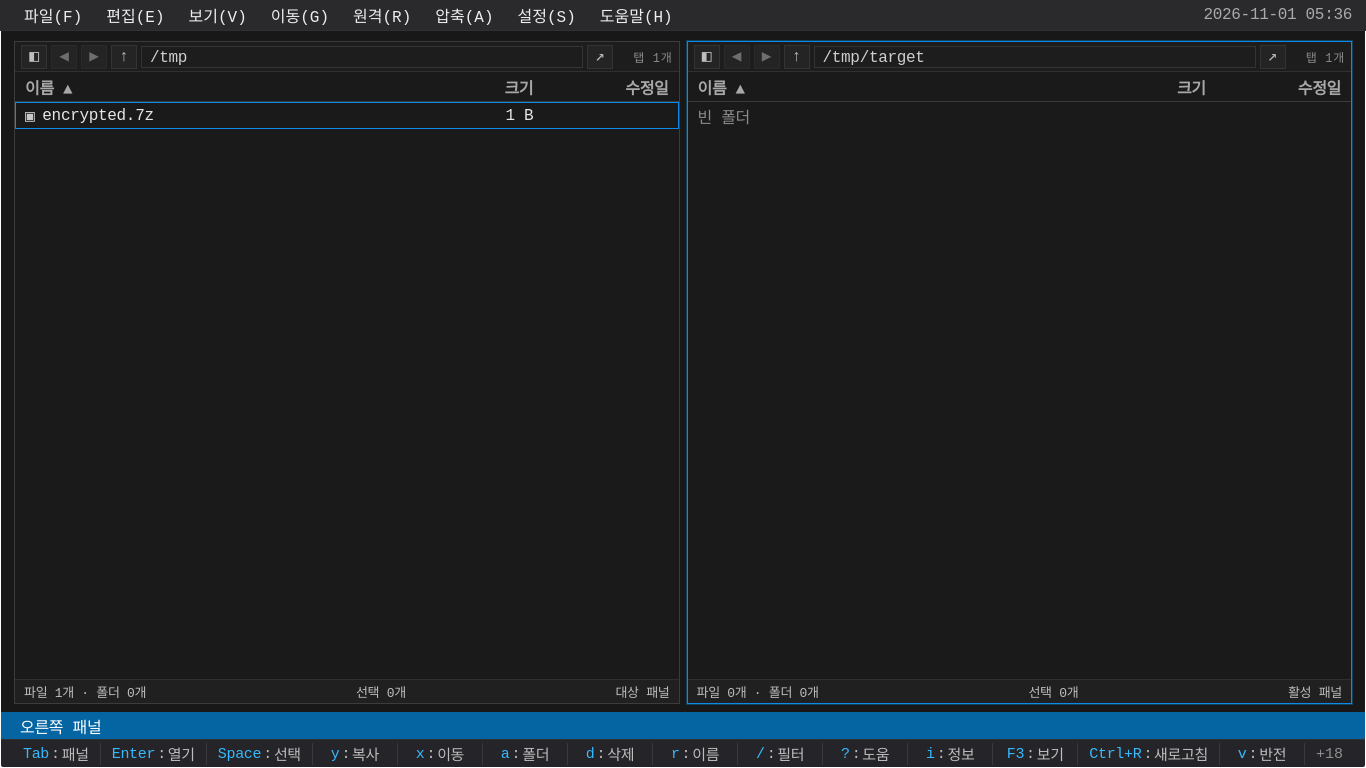
Scenario: CommanderShell archives › requests a masked password and retries encrypted archive listing without exposing the secret
Press Tab
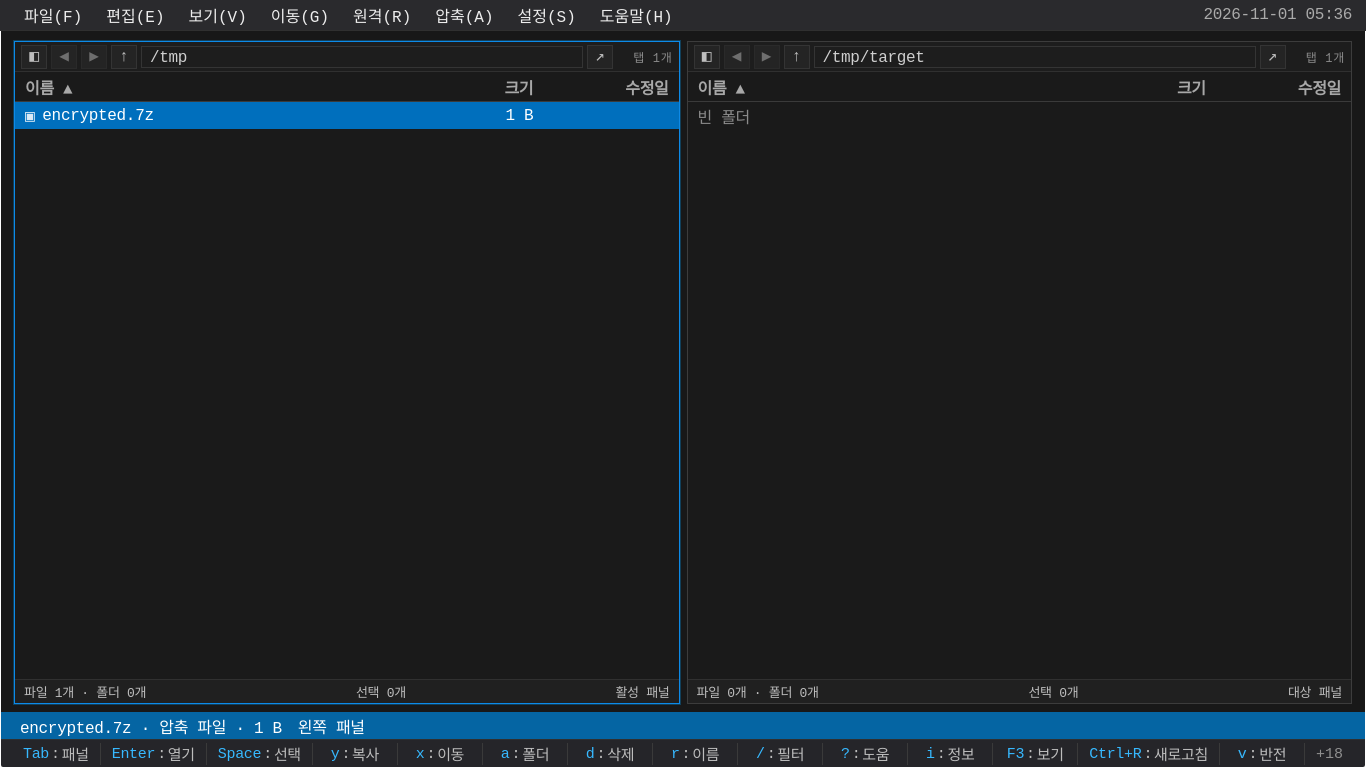
Double-click the row with class "file-row" at (347, 116), box [15,102,678,129]
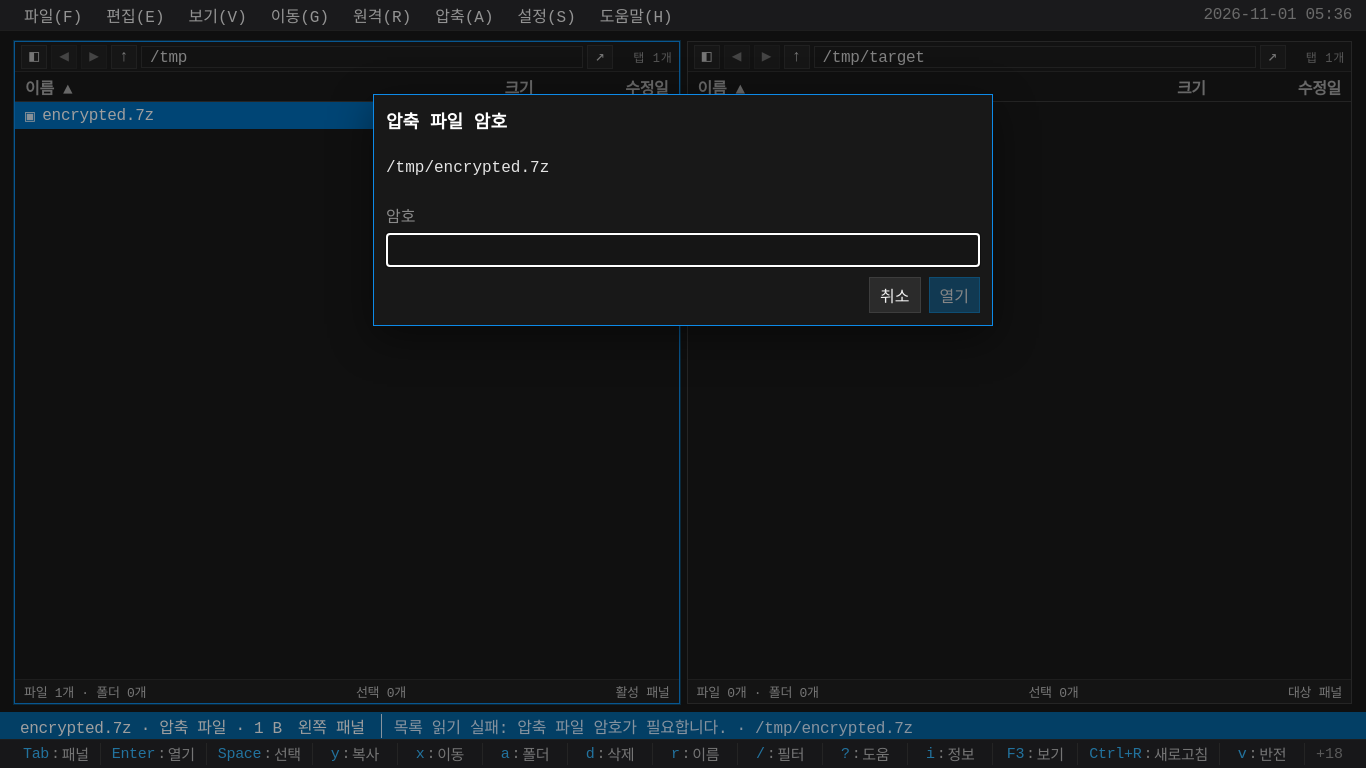
Type "top-secret" into the password field labelled "암호" at (683, 250), box [386,233,980,267]
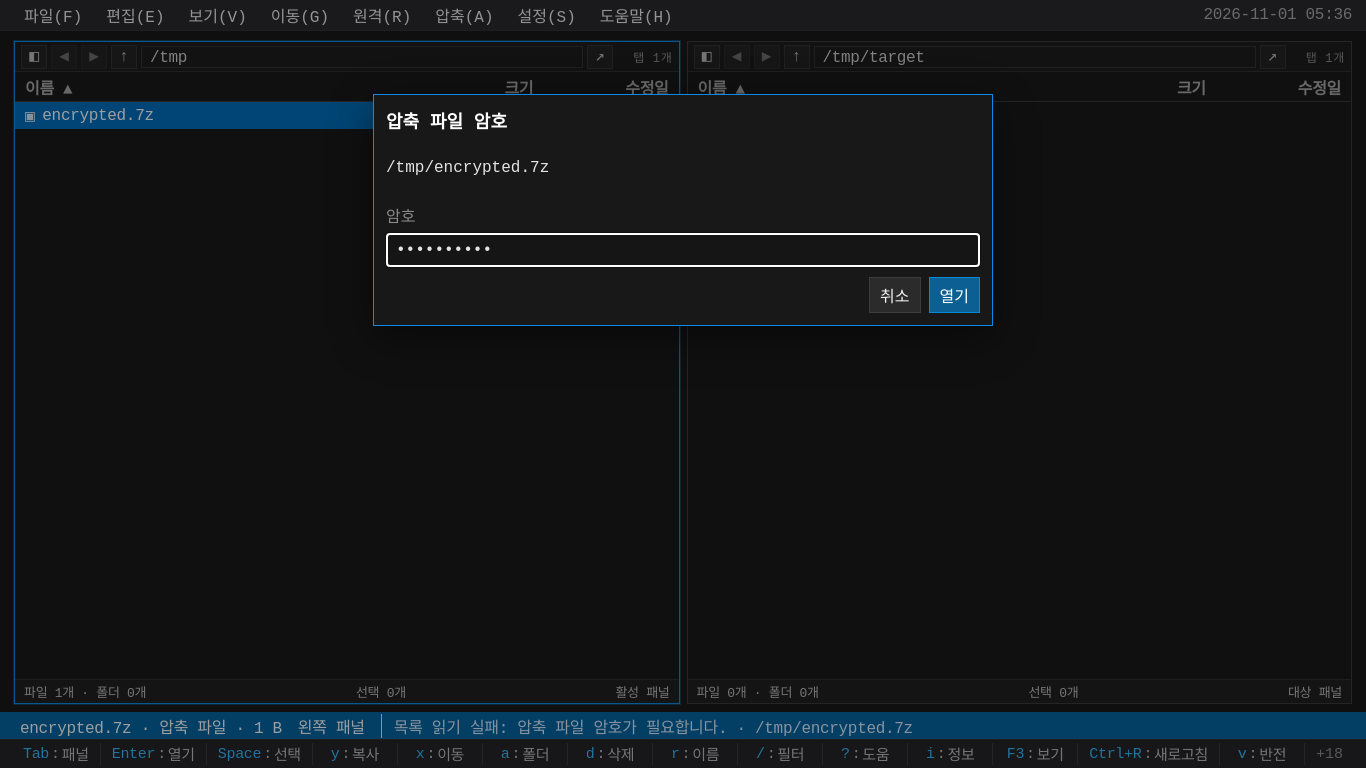
Click the button "열기" at (954, 295), box [928,277,980,313]
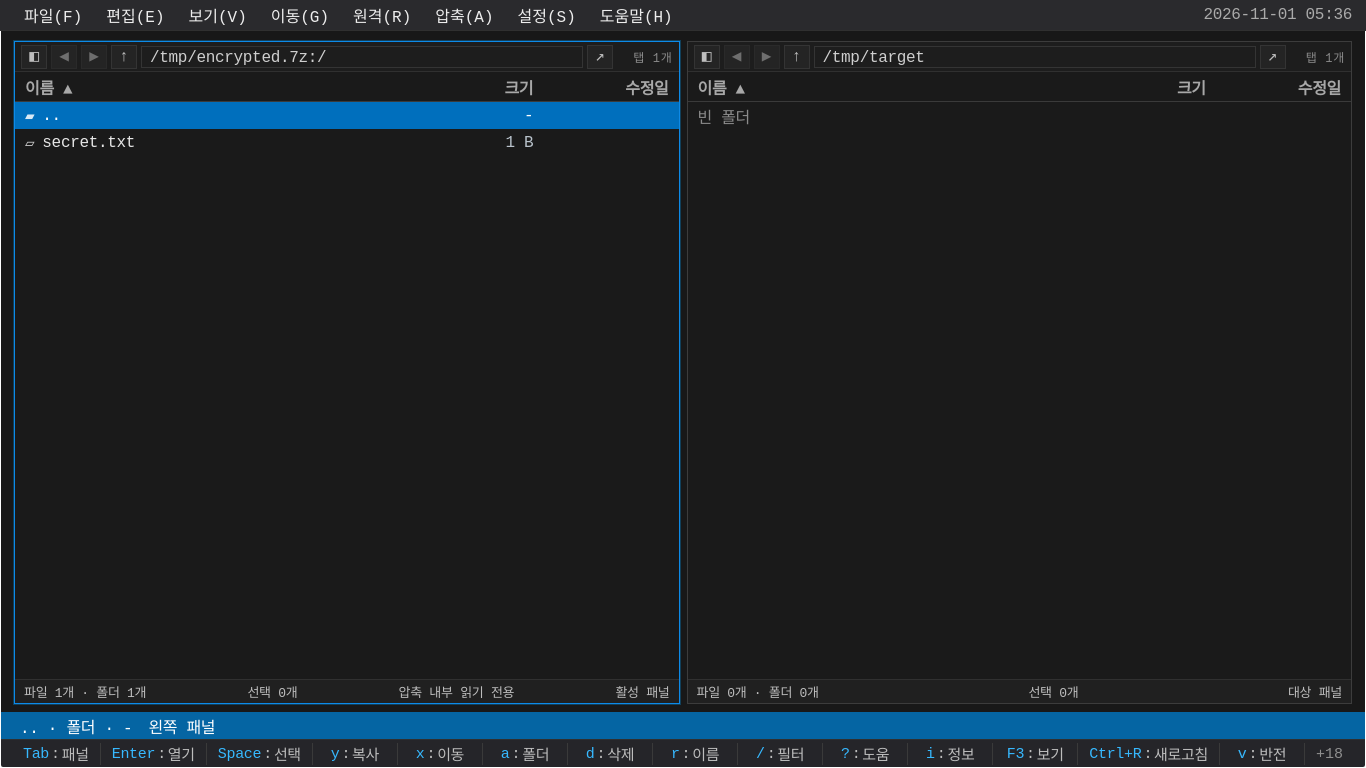
Expected: the row with class "file-row" showing "▱ secret.txt 1 B" is shown, [25,134,533,152]
Expected: the text "압축 파일 암호" is gone
